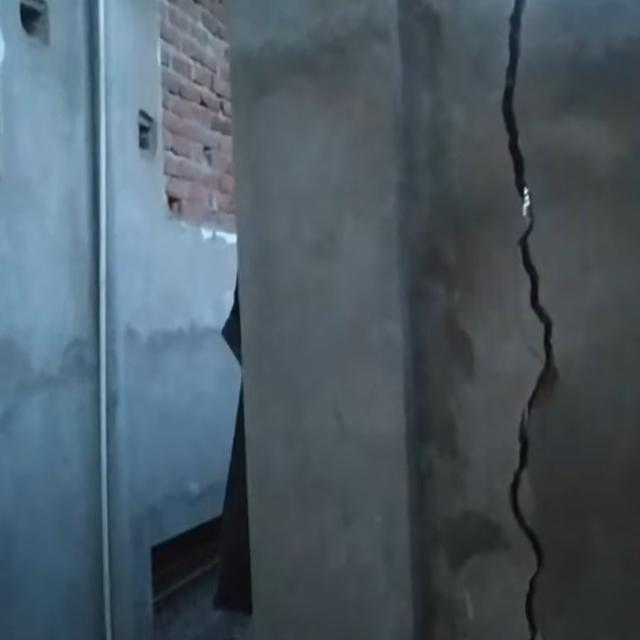Wall_Cracks: (433, 0, 604, 640)
